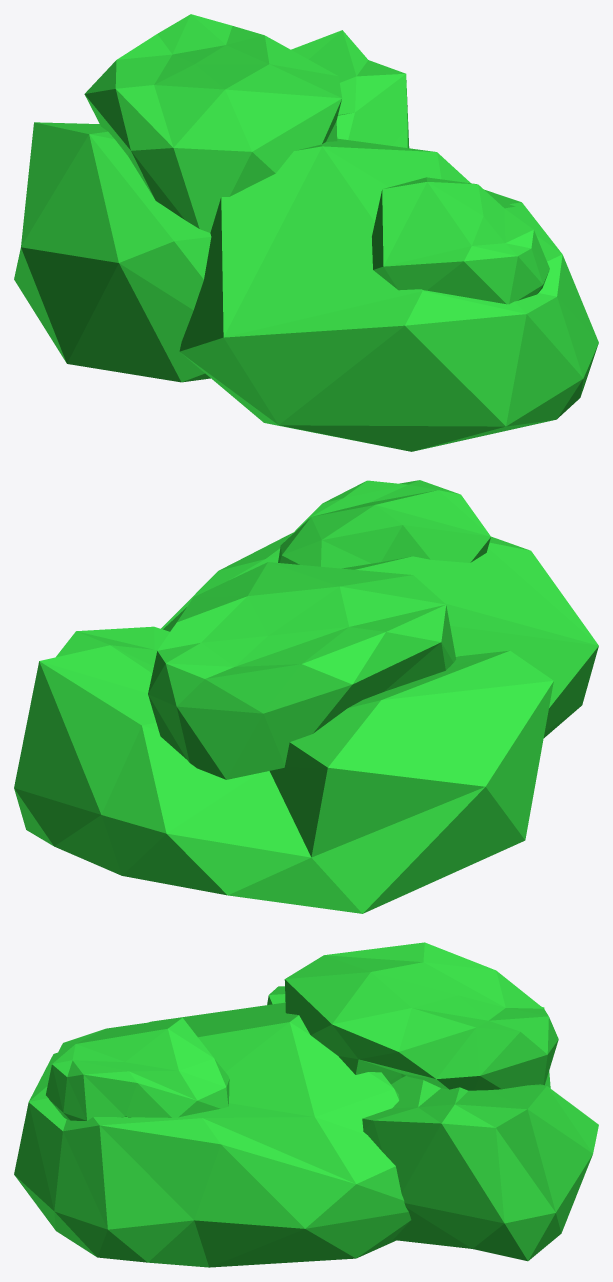
Rendered from bush2.glb.
3 views of the same model, one above another, from view 1: azimuth 30°, elevation 25°; view 2: azimuth 150°, elevation 25°; view 3: azimuth 270°, elevation 25° (orthographic). The views are drawn at different scales.
Visible parts, largest first — view 1: Object_14.002; view 2: Object_14.002; view 3: Object_14.002.
Part boxes in pixels (x1,y1,x2,y2): Object_14.002: (14, 14, 598, 451); Object_14.002: (14, 480, 598, 913); Object_14.002: (14, 942, 598, 1267).
Size of the model in its own units: 9.03 by 5.22 by 12.74.
